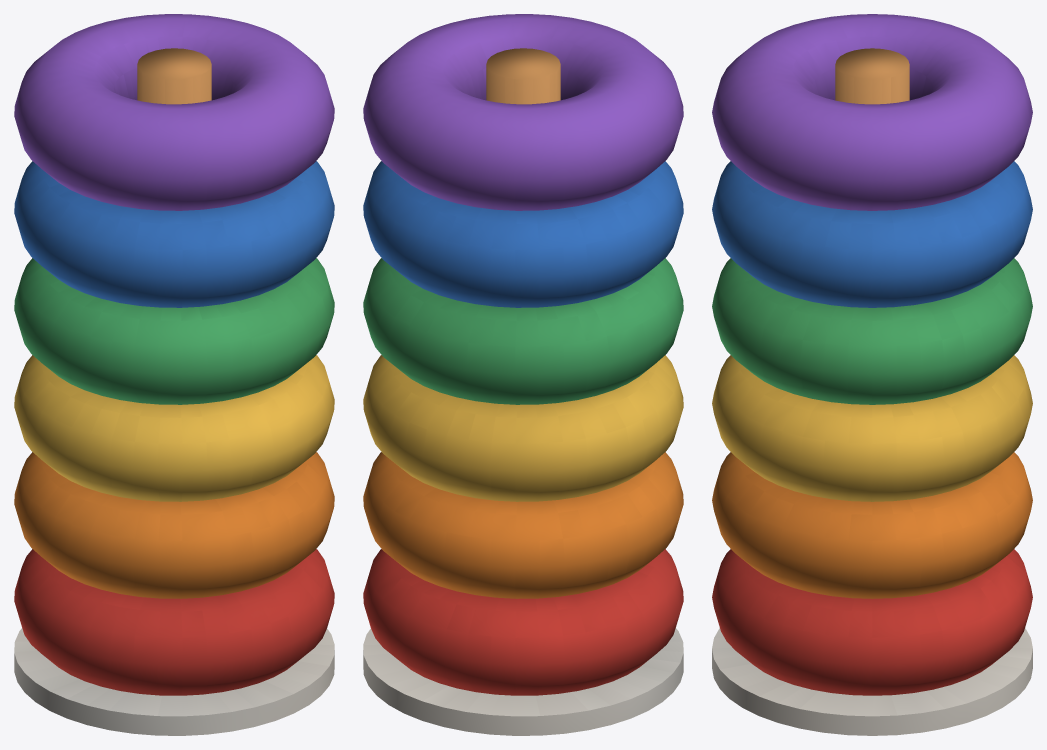
File: den_ring_stack_c.glb
3 views of the same model, side by side, from view 1: azimuth 30°, elevation 25°; view 2: azimuth 150°, elevation 25°; view 3: azimuth 270°, elevation 25° (orthographic).
Parts seen in each view (by area): view 1: den_ring_stack_c; view 2: den_ring_stack_c; view 3: den_ring_stack_c.
Boxes of the visible parts, left/top/right/bottom form: den_ring_stack_c: left=14, top=14, right=334, bottom=735; den_ring_stack_c: left=363, top=14, right=683, bottom=735; den_ring_stack_c: left=712, top=14, right=1032, bottom=735.
Bounding box in the file's own units: 5.2 × 10.8 × 5.2.
